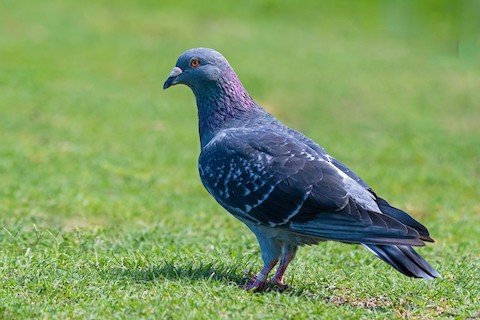pigeon: (159, 43, 447, 297)
